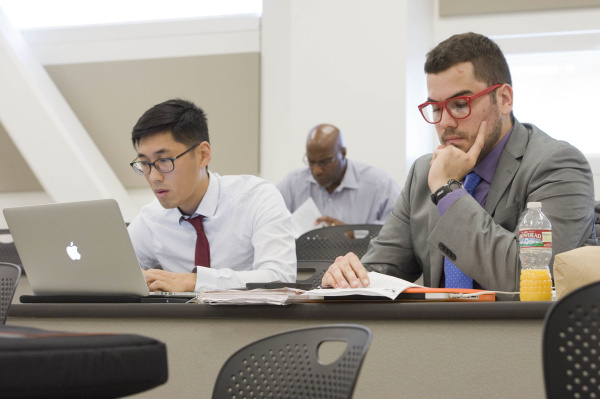Person: (359, 31, 582, 267), (118, 102, 288, 290), (282, 126, 388, 214)
